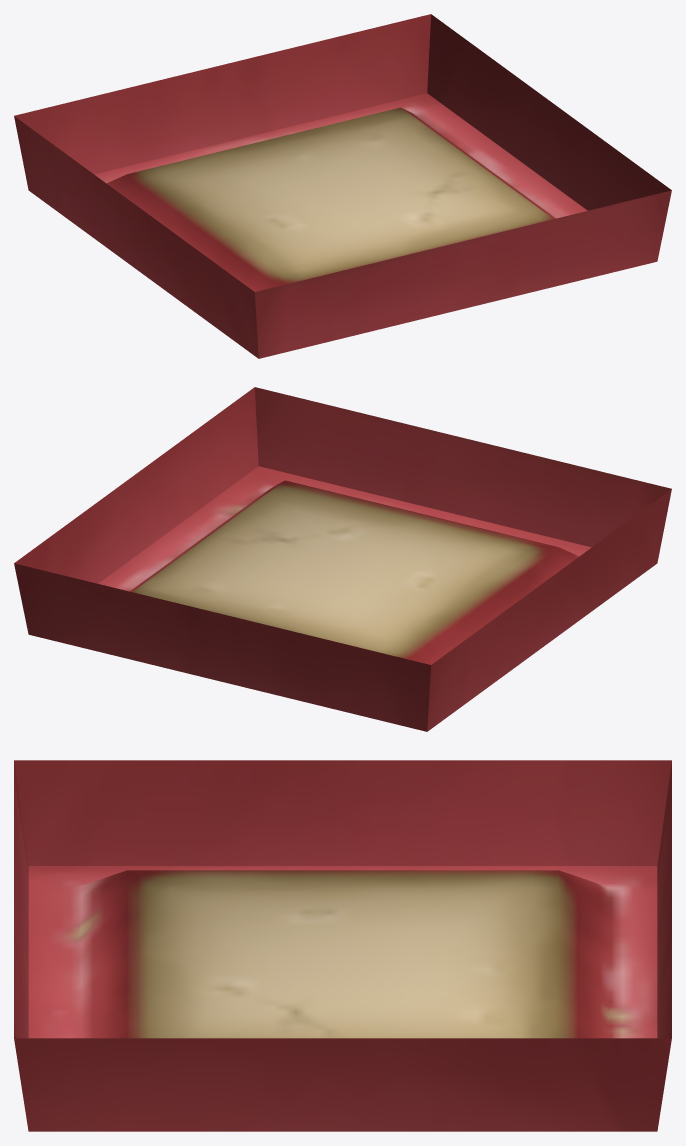
Rendered from roof orange square3.FBX.
3 views of the same model, one above another, from view 1: azimuth 30°, elevation 25°; view 2: azimuth 150°, elevation 25°; view 3: azimuth 270°, elevation 25° (orthographic). The views are drawn at different scales.
Visible parts, largest first — view 1: roof orange square3; view 2: roof orange square3; view 3: roof orange square3.
Part boxes in pixels (<box>): roof orange square3: <box>14,14,671,358</box>; roof orange square3: <box>14,387,671,731</box>; roof orange square3: <box>14,760,671,1131</box>.
Bounding box in the file's own units: 511 × 85.49 × 511.
